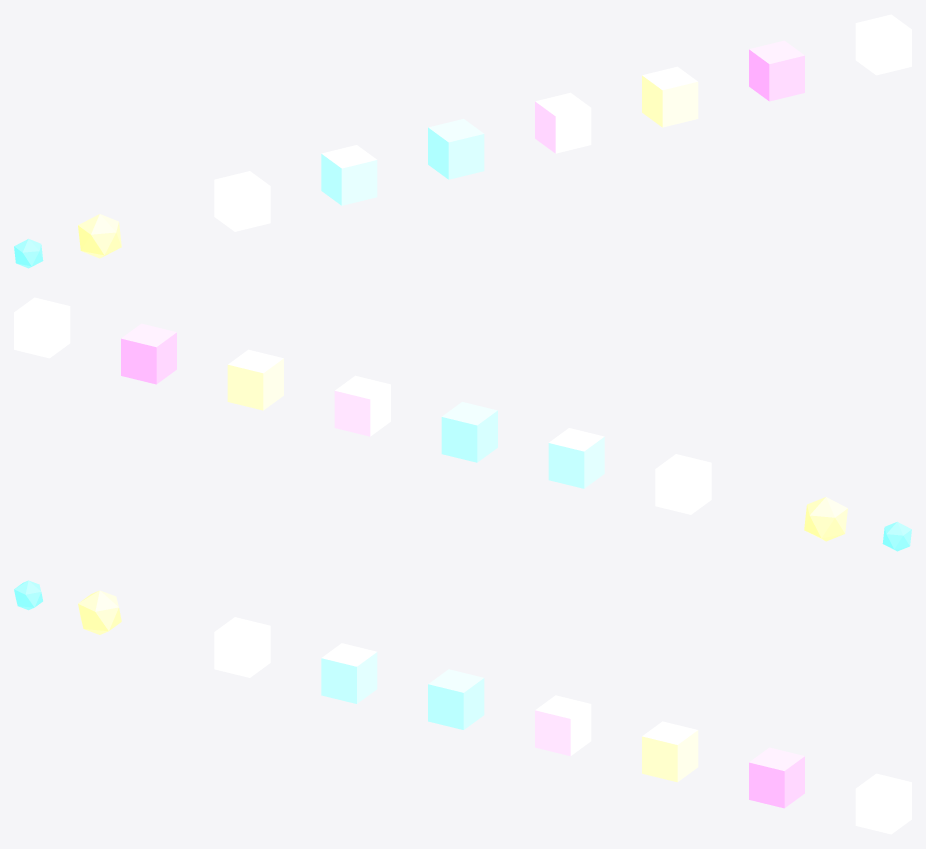
File: pickups.glb
The picture shows the model from 3 angles, top to bottom: view 1: azimuth 30°, elevation 25°; view 2: azimuth 150°, elevation 25°; view 3: azimuth 330°, elevation 25°; orthographic projection.
Parts seen in each view (by area): view 1: Loot_Crate_Common, Loot_Crate_Rare, Loot_Crate_Legendary, Loot_Crate_Epic, Loot_Crate_Ancient, Loot_Crate_Uncommon, Loot_Crate_Mythic, Loot_Orb, XP_Orb; view 2: Loot_Crate_Common, Loot_Crate_Rare, Loot_Crate_Legendary, Loot_Crate_Epic, Loot_Crate_Ancient, Loot_Crate_Uncommon, Loot_Crate_Mythic, Loot_Orb, XP_Orb; view 3: Loot_Crate_Common, Loot_Crate_Rare, Loot_Crate_Legendary, Loot_Crate_Epic, Loot_Crate_Ancient, Loot_Crate_Uncommon, Loot_Crate_Mythic, Loot_Orb, XP_Orb.
Boxes of the visible parts, x1=… form: Loot_Crate_Common: x1=214, y1=171, x2=270, y2=231; Loot_Crate_Rare: x1=428, y1=119, x2=484, y2=179; Loot_Crate_Legendary: x1=642, y1=66, x2=698, y2=127; Loot_Crate_Epic: x1=535, y1=92, x2=591, y2=153; Loot_Crate_Ancient: x1=855, y1=14, x2=911, y2=75; Loot_Crate_Uncommon: x1=321, y1=145, x2=377, y2=205; Loot_Crate_Mythic: x1=749, y1=40, x2=804, y2=101; Loot_Orb: x1=78, y1=214, x2=121, y2=258; XP_Orb: x1=14, y1=238, x2=43, y2=268; Loot_Crate_Common: x1=655, y1=454, x2=711, y2=514; Loot_Crate_Rare: x1=441, y1=402, x2=497, y2=462; Loot_Crate_Legendary: x1=227, y1=349, x2=283, y2=410; Loot_Crate_Epic: x1=334, y1=375, x2=390, y2=436; Loot_Crate_Ancient: x1=14, y1=297, x2=70, y2=358; Loot_Crate_Uncommon: x1=548, y1=428, x2=604, y2=488; Loot_Crate_Mythic: x1=121, y1=323, x2=176, y2=384; Loot_Orb: x1=804, y1=497, x2=847, y2=541; XP_Orb: x1=882, y1=521, x2=911, y2=551; Loot_Crate_Common: x1=214, y1=617, x2=270, y2=677; Loot_Crate_Rare: x1=428, y1=669, x2=484, y2=729; Loot_Crate_Legendary: x1=642, y1=721, x2=698, y2=782; Loot_Crate_Epic: x1=535, y1=695, x2=591, y2=756; Loot_Crate_Ancient: x1=855, y1=773, x2=911, y2=834; Loot_Crate_Uncommon: x1=321, y1=643, x2=377, y2=703; Loot_Crate_Mythic: x1=749, y1=747, x2=804, y2=808; Loot_Orb: x1=78, y1=590, x2=121, y2=634; XP_Orb: x1=14, y1=580, x2=42, y2=610.
Size of the model in its own units: 12.43 by 0.6 by 0.5104.
